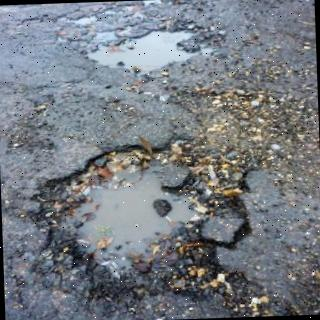pothole: (38, 91, 320, 318), (88, 26, 225, 66)
